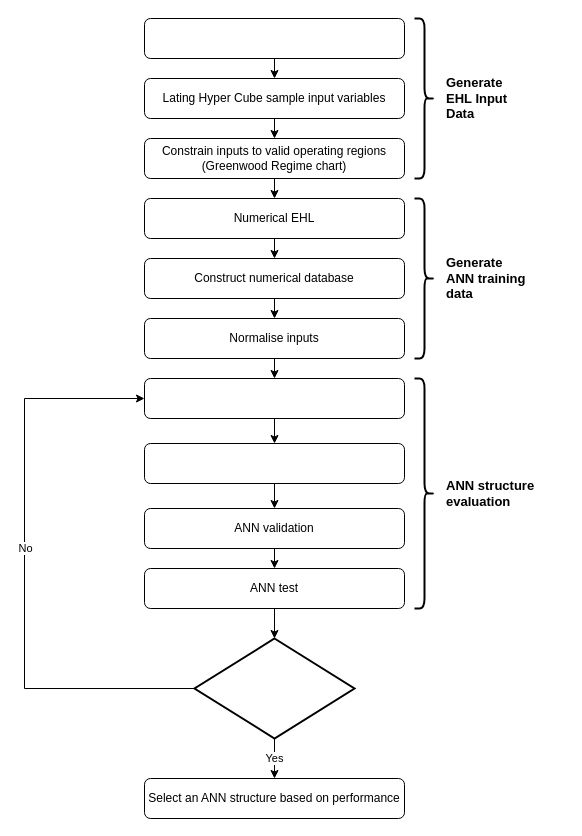
Image size: 582x836. Some labels were removed from this diagram. The centre of each missing label's shape, as x and y in pixels:
"ANN training" goes at pixel 274 463.
"Assessed all ANN structures?" goes at pixel 274 688.
"Define ANN structure (Hyperparameters and activation function)" goes at pixel 274 398.
"Define limits of input variables based on common bearing operating conditions" goes at pixel 274 38.
